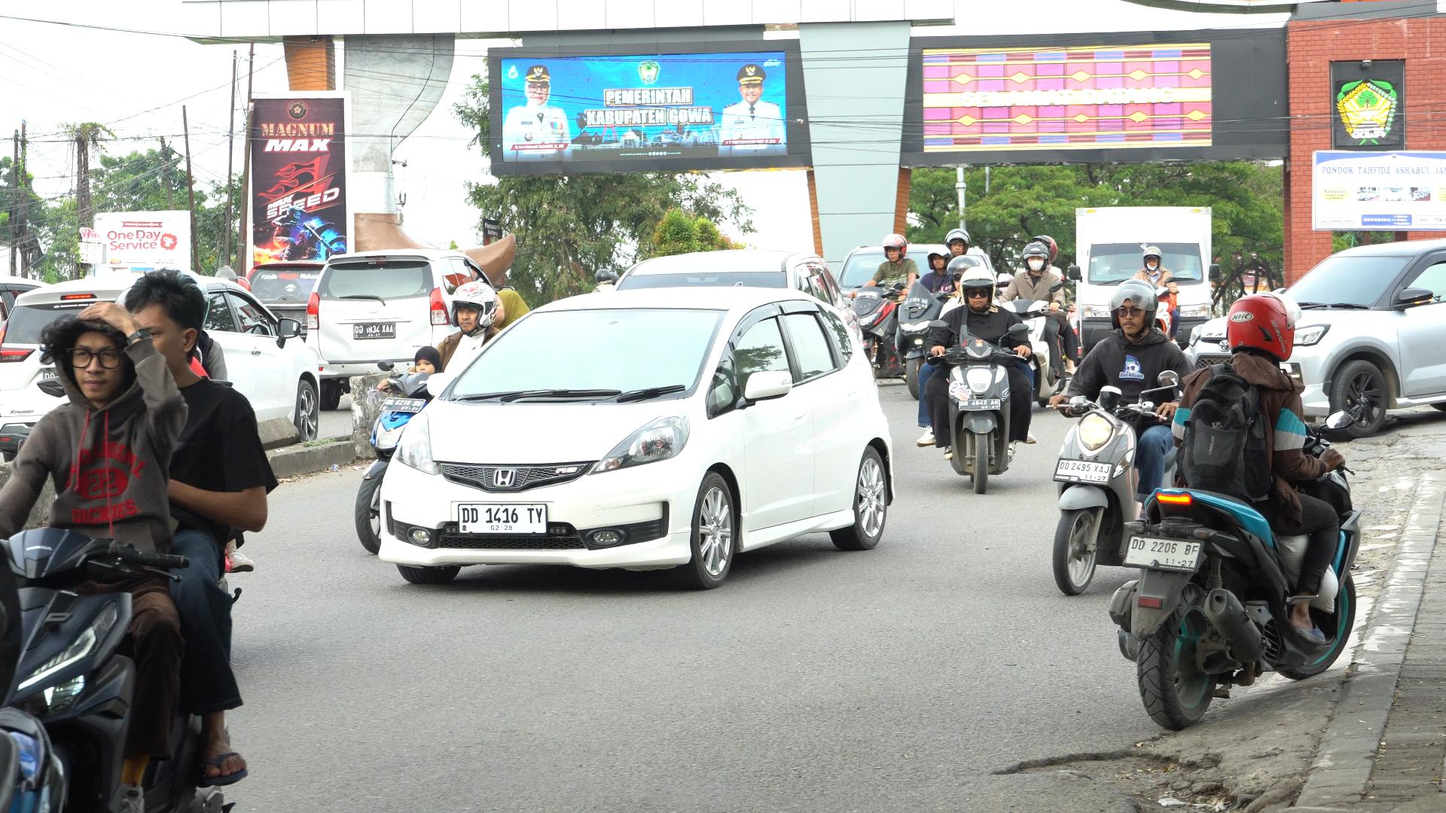number-plate: (1053, 456, 1112, 488), (958, 398, 1002, 410)
